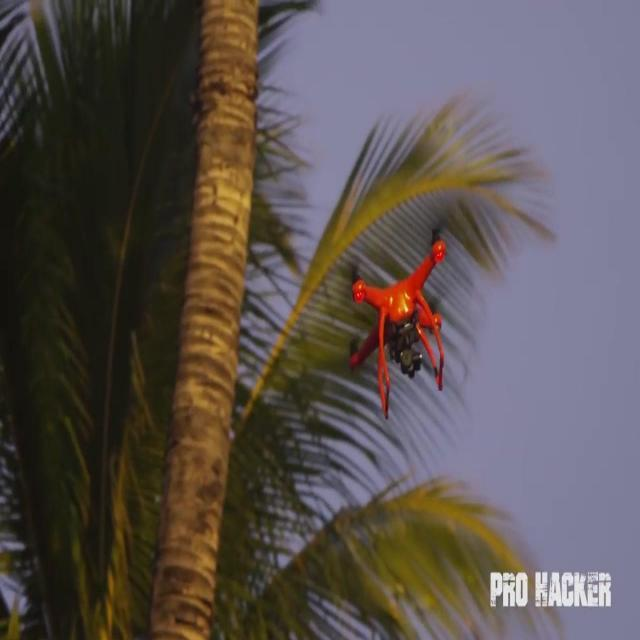UAV: (348, 216, 448, 420)
